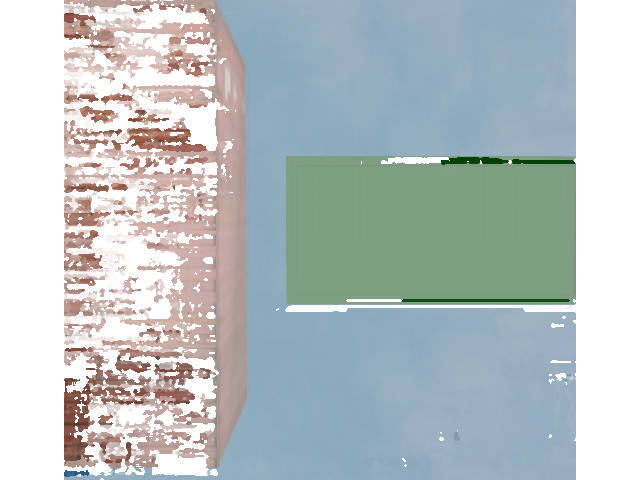container2: (284, 147, 596, 307)
container4: (13, 0, 258, 468)
